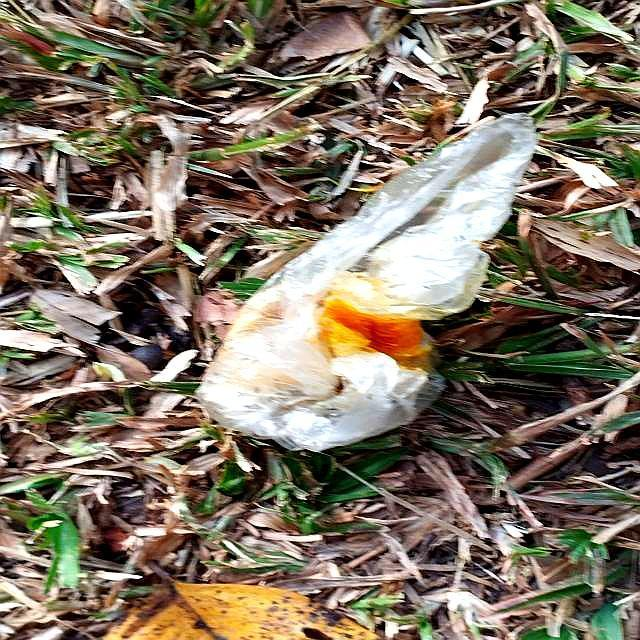Non-biodegradable: (194, 111, 540, 456)
